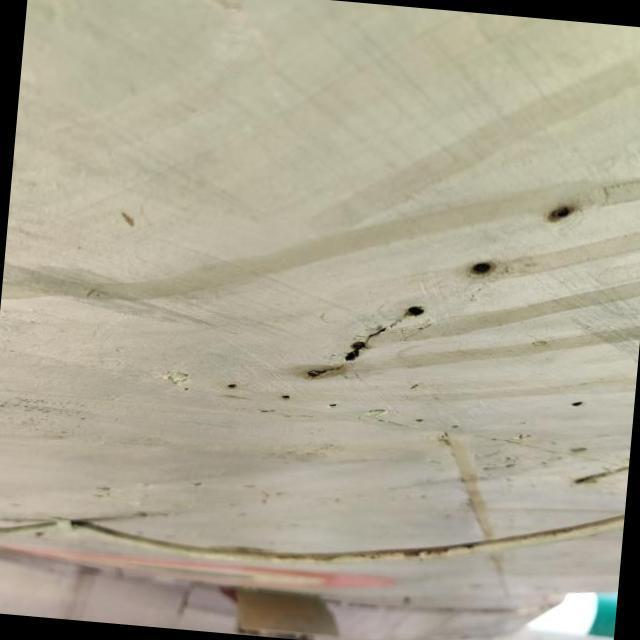Rupture: (294, 284, 432, 398)
